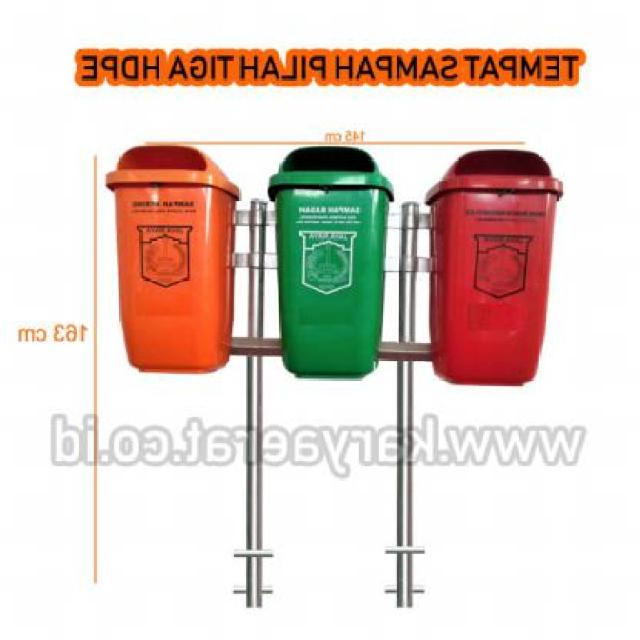garbage container: (411, 142, 574, 396), (97, 140, 246, 380), (265, 144, 397, 384)
